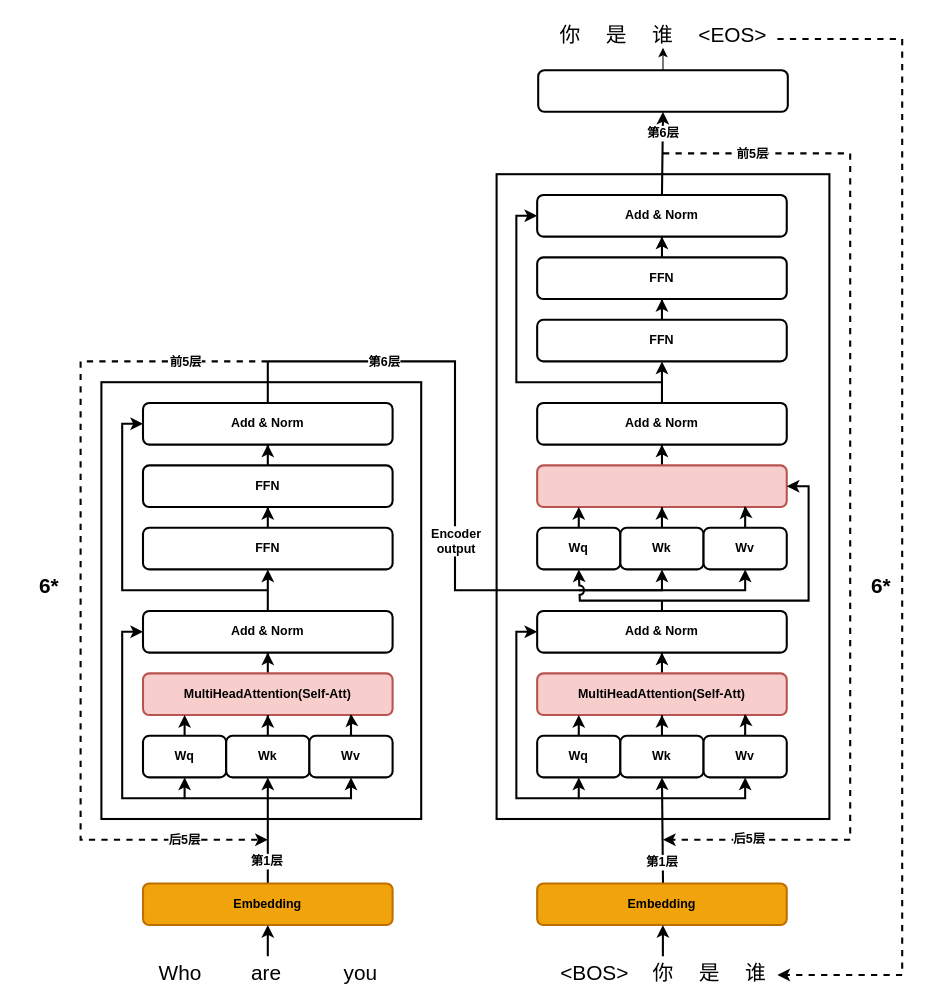
This 930x1005 diagram has some shape labels left out. Each missing label, with the box of its shape:
Dense: (537, 69, 788, 112)
MultiHeadAttention(Cross-Att): (536, 464, 787, 508)
